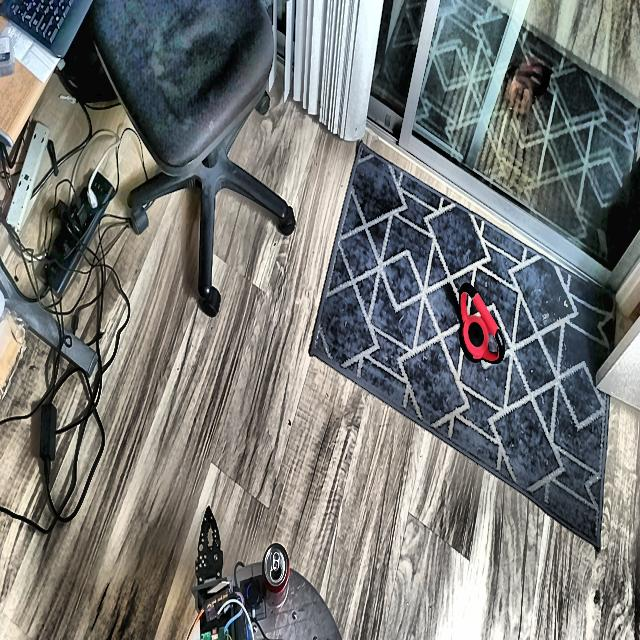Can: (263, 544, 289, 606)
